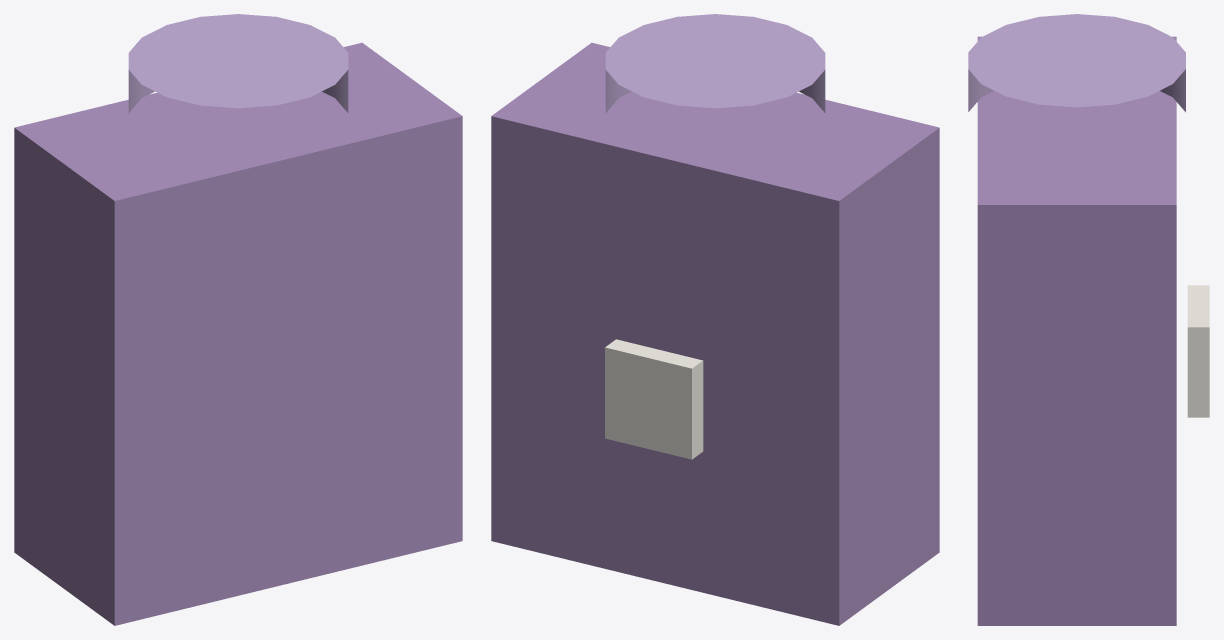
Rendered from dice-pouch.glb.
3 views of the same model, side by side, from view 1: azimuth 30°, elevation 25°; view 2: azimuth 150°, elevation 25°; view 3: azimuth 270°, elevation 25° (orthographic).
Parts seen in each view (by area): view 1: dice-pouch; view 2: dice-pouch; view 3: dice-pouch.
Part boxes in pixels (left/top/right/bottom): dice-pouch: left=14, top=14, right=462, bottom=625; dice-pouch: left=491, top=14, right=939, bottom=625; dice-pouch: left=968, top=14, right=1209, bottom=625.
Size of the model in its own units: 0.36 by 0.48 by 0.2185.
